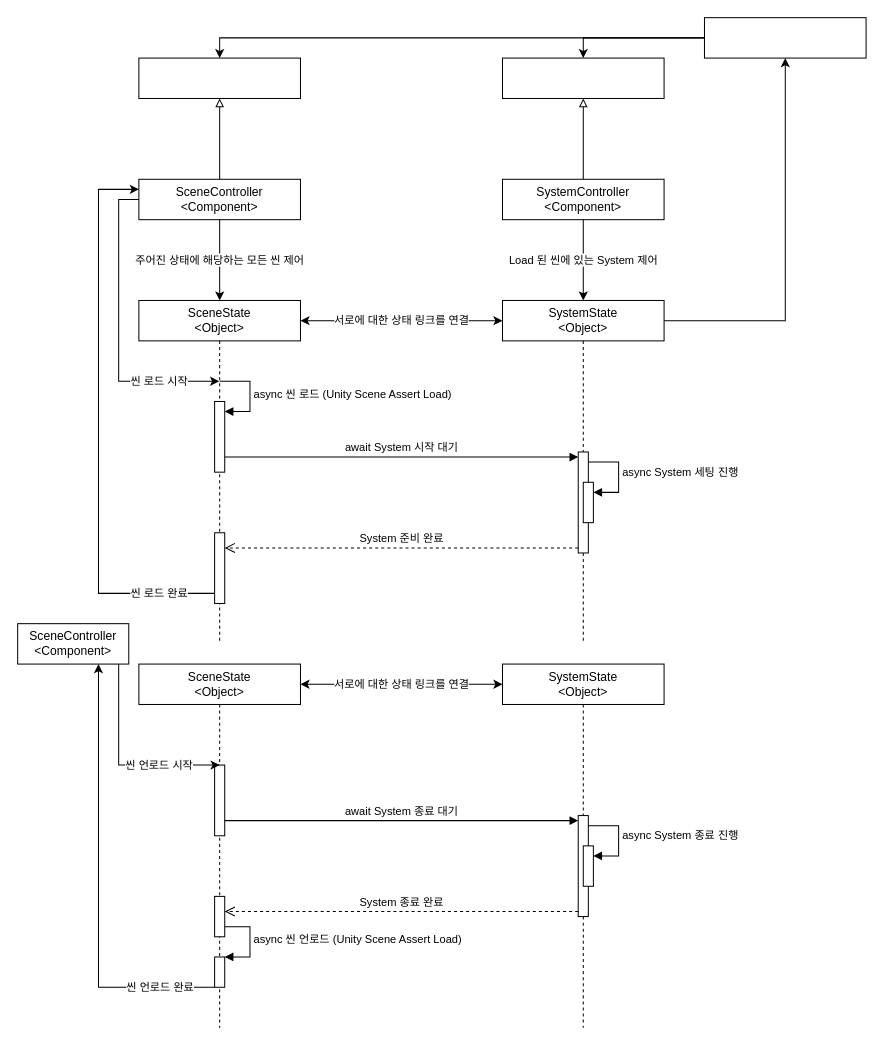
The diagram is 884 pixels wide and 1045 high, and some of its shapes have lost their labels. The shapes that lost their labels are listed below. From the top down, each one's centre as x and y in pixels, then its label:
the point at 784,37: IApplication <Interface>
the point at 219,77: ISceneController <Interface>
the point at 582,77: ISystemController <Interface>
